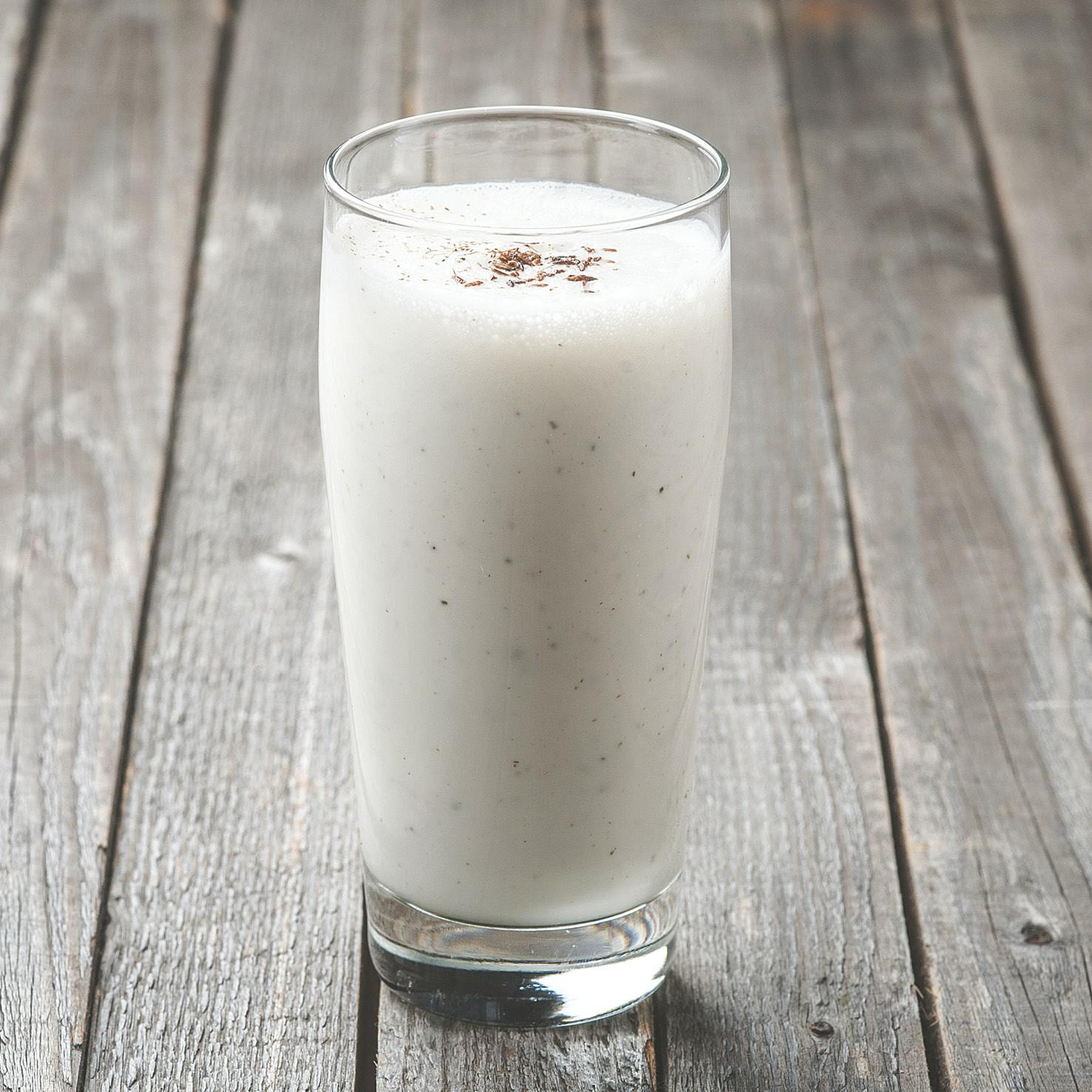Lassi: (313, 180, 732, 924)
